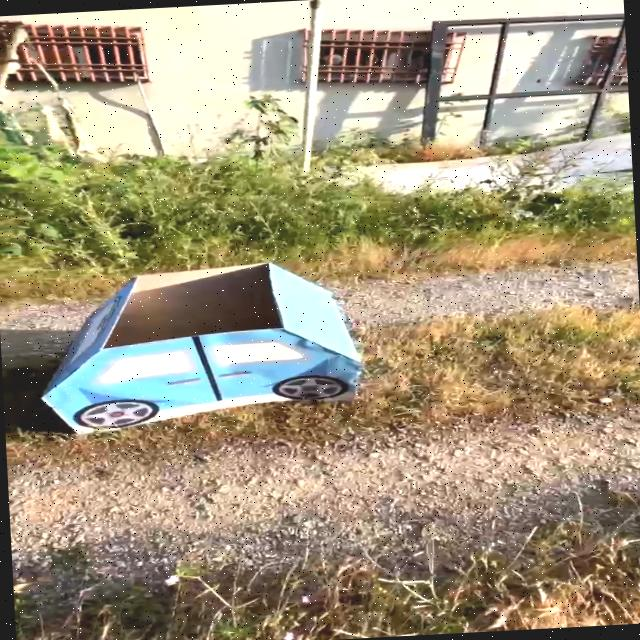blue_car: (0, 230, 417, 463)
